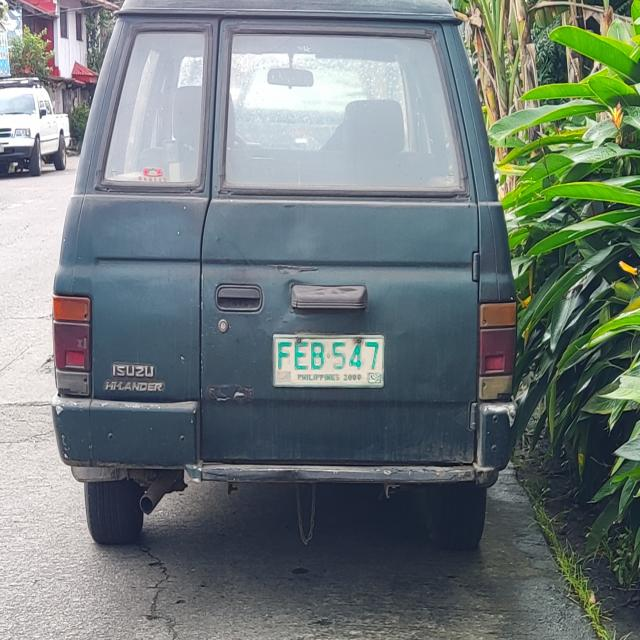plate: (272, 333, 386, 389)
